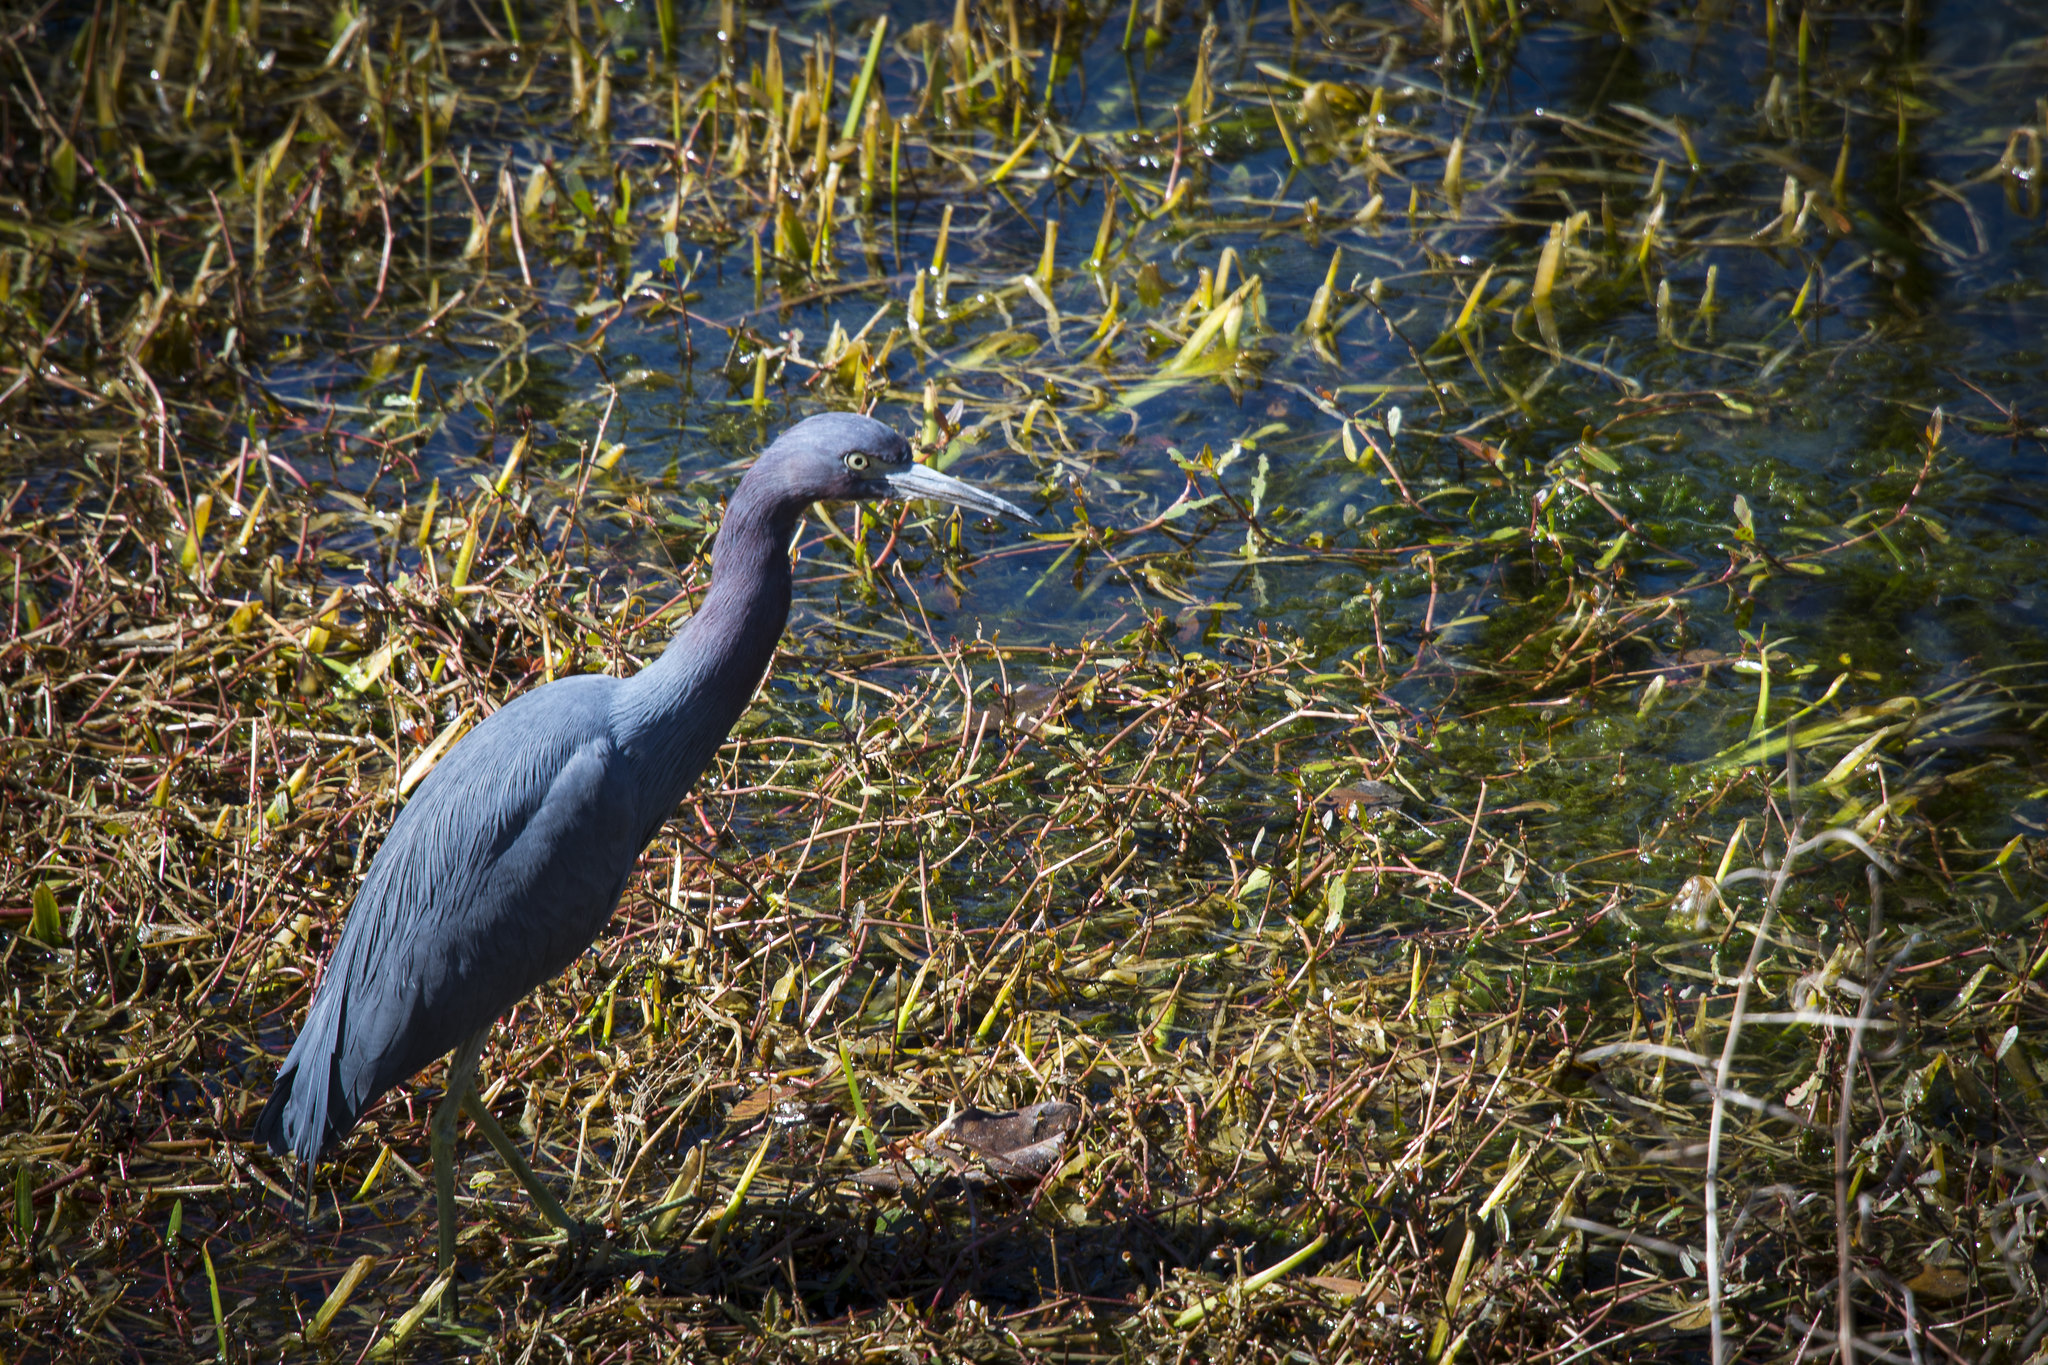bird: (218, 408, 1032, 1216)
